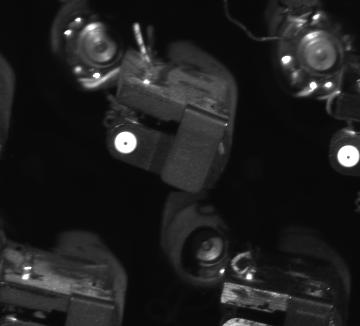fiber: (112, 129, 144, 159), (334, 142, 360, 172)
